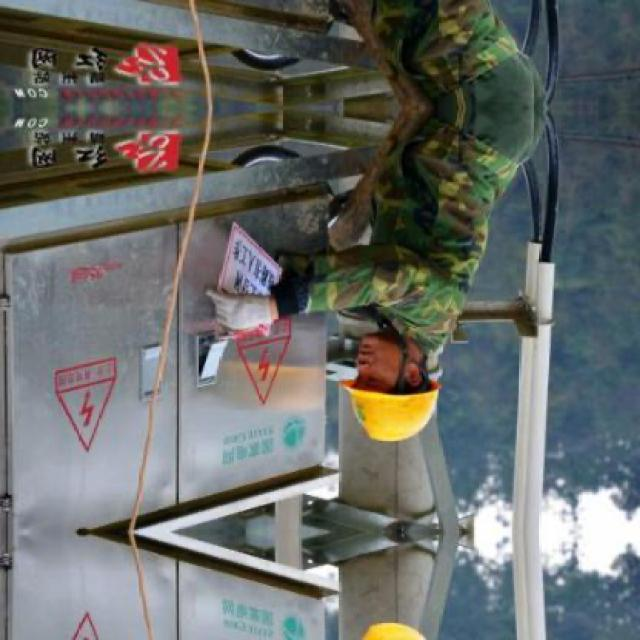con casco: (303, 304, 438, 441)
